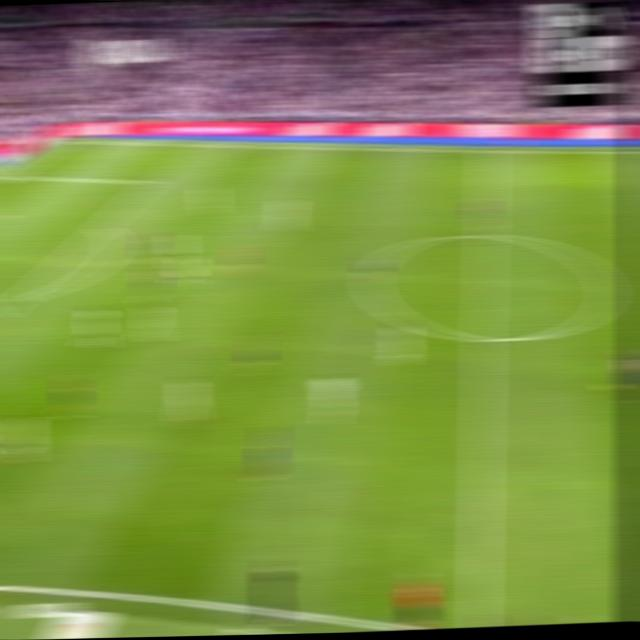bigarea_top_inner: (142, 174, 161, 190)
bigarea_top_outter: (2, 167, 22, 180)
bottom_arc_area_intersection: (11, 288, 32, 307)
corner: (60, 133, 81, 145)
halfcircle_bottom: (470, 320, 497, 355)
halfcircle_top: (473, 220, 499, 249)
midline_top_intersection: (477, 143, 499, 162)
smallarea_top_inner: (0, 207, 9, 221)
top_arc_area_intersection: (92, 218, 112, 233)
